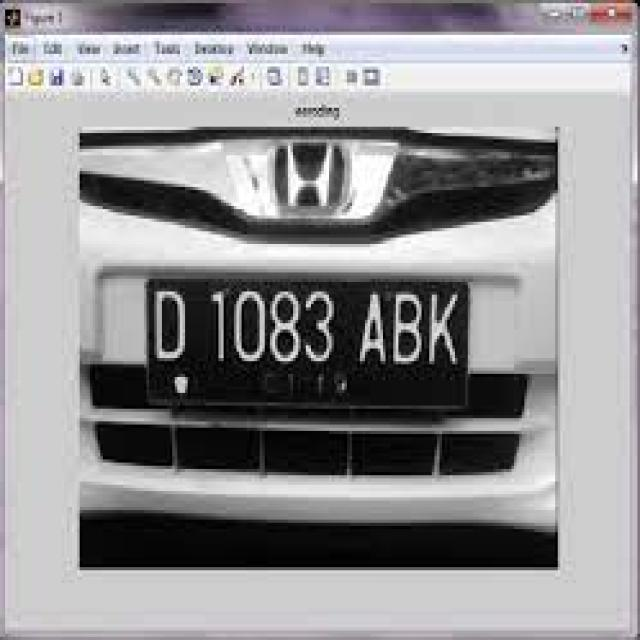license-plat: (144, 263, 472, 420)
